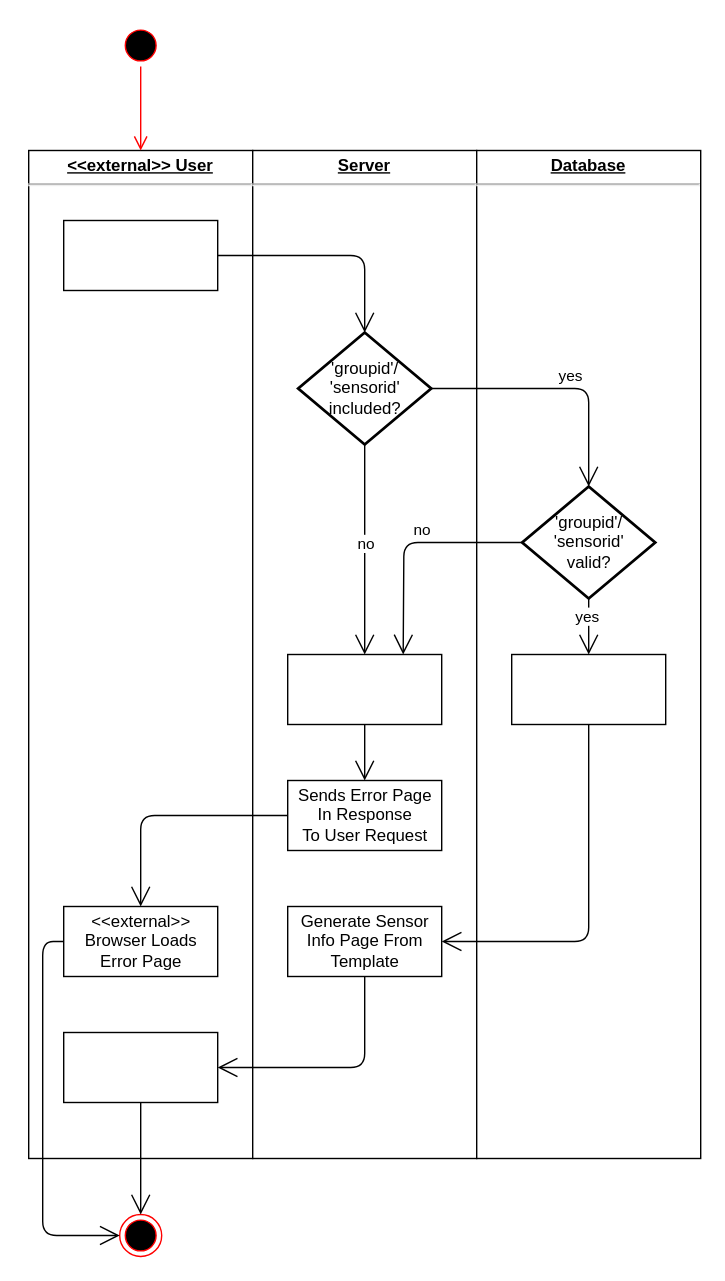
Some shapes in this 725 by 1281 pixel diagram are drawn without their labels. The centre of each missing label's shape, as x and y in pixels:
<<external>> Browser Loads Sensor Info Page: point 140,1066
<<external>> User Requests Sensors Page: point 140,254
Generate Error Page From Template: point 364,688
Retrieves Top-n Most Recent Sensor Readings: point 588,688
